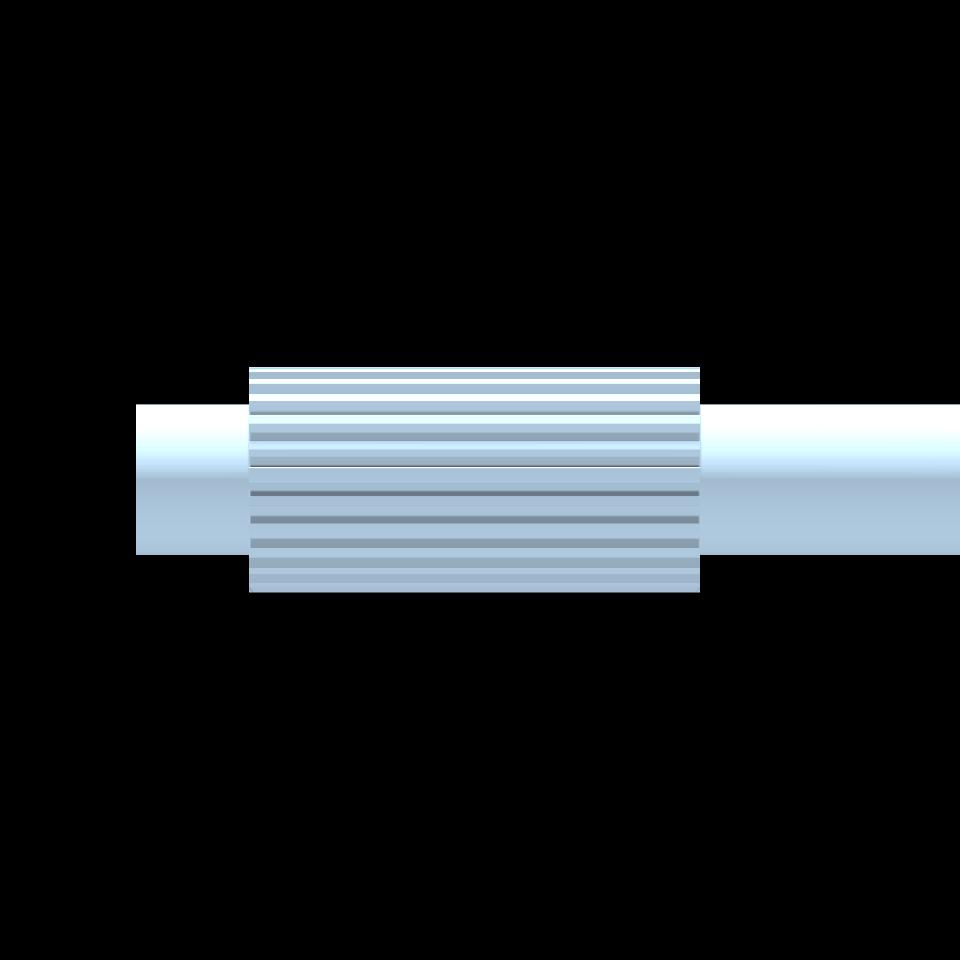Straight: (249, 366, 699, 594)
